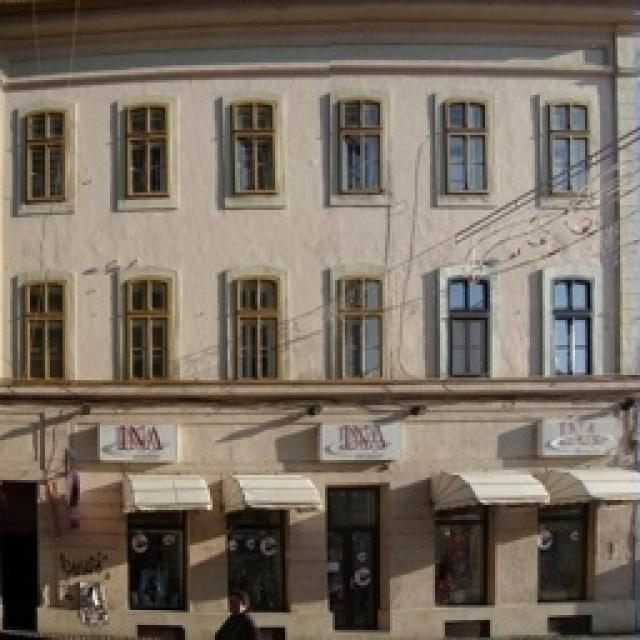Window: (230, 518, 285, 610), (128, 520, 182, 610), (235, 280, 280, 380), (340, 280, 385, 375), (437, 515, 485, 603), (128, 282, 170, 378), (232, 102, 276, 192), (540, 514, 585, 598), (447, 280, 485, 375), (25, 288, 63, 380), (340, 100, 378, 190), (27, 115, 65, 203), (127, 107, 165, 195), (445, 105, 483, 190), (550, 102, 585, 190), (554, 282, 588, 372)
